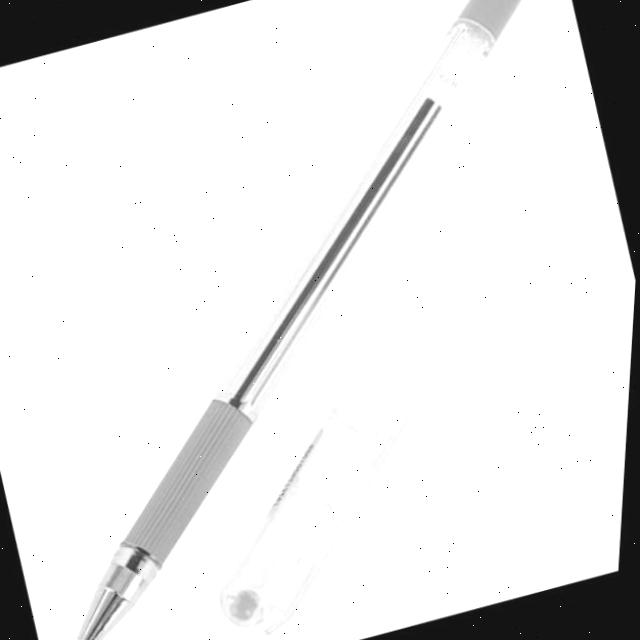pencil: (53, 0, 528, 640)
